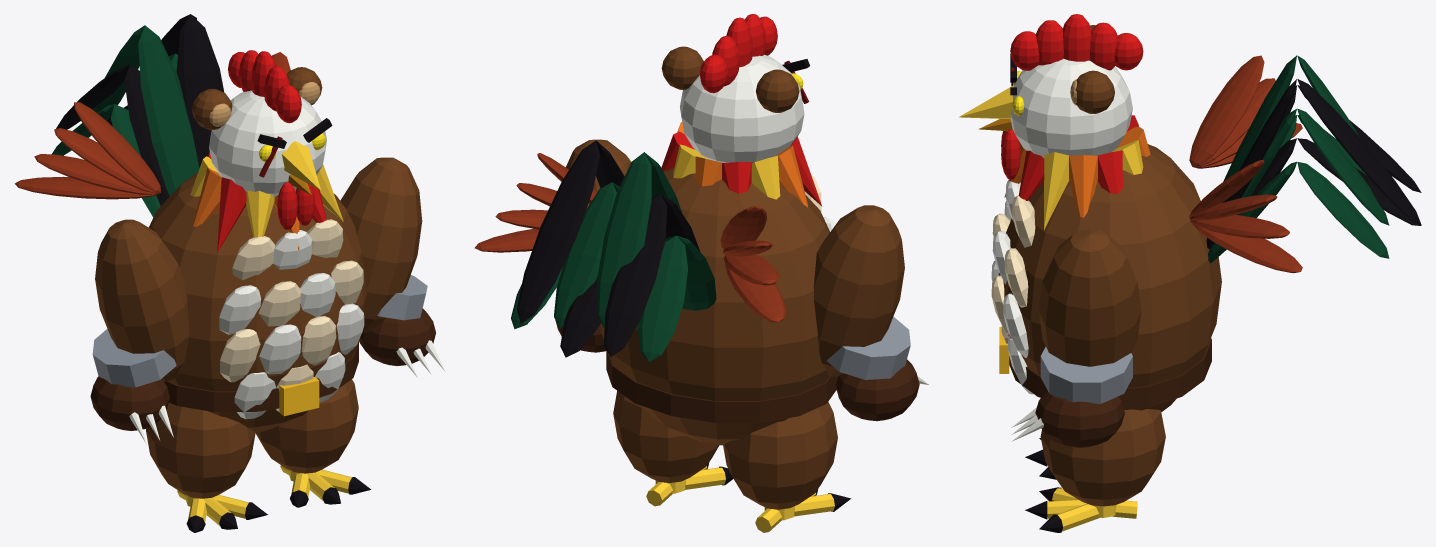
Rendered from OsoGallo.fbx.
3 views of the same model, side by side, from view 1: azimuth 30°, elevation 25°; view 2: azimuth 150°, elevation 25°; view 3: azimuth 270°, elevation 25° (orthographic). The views are drawn at different scales.
Parts seen in each view (by area): view 1: Cuerpo; view 2: Cuerpo; view 3: Cuerpo.
Part boxes in pixels (x1,y1,x2,y2): Cuerpo: (14, 14, 445, 532); Cuerpo: (474, 14, 928, 532); Cuerpo: (959, 14, 1421, 532).
Size of the model in its own units: 614 by 801 by 703.
Materials: 1 (1 with a texture image).
